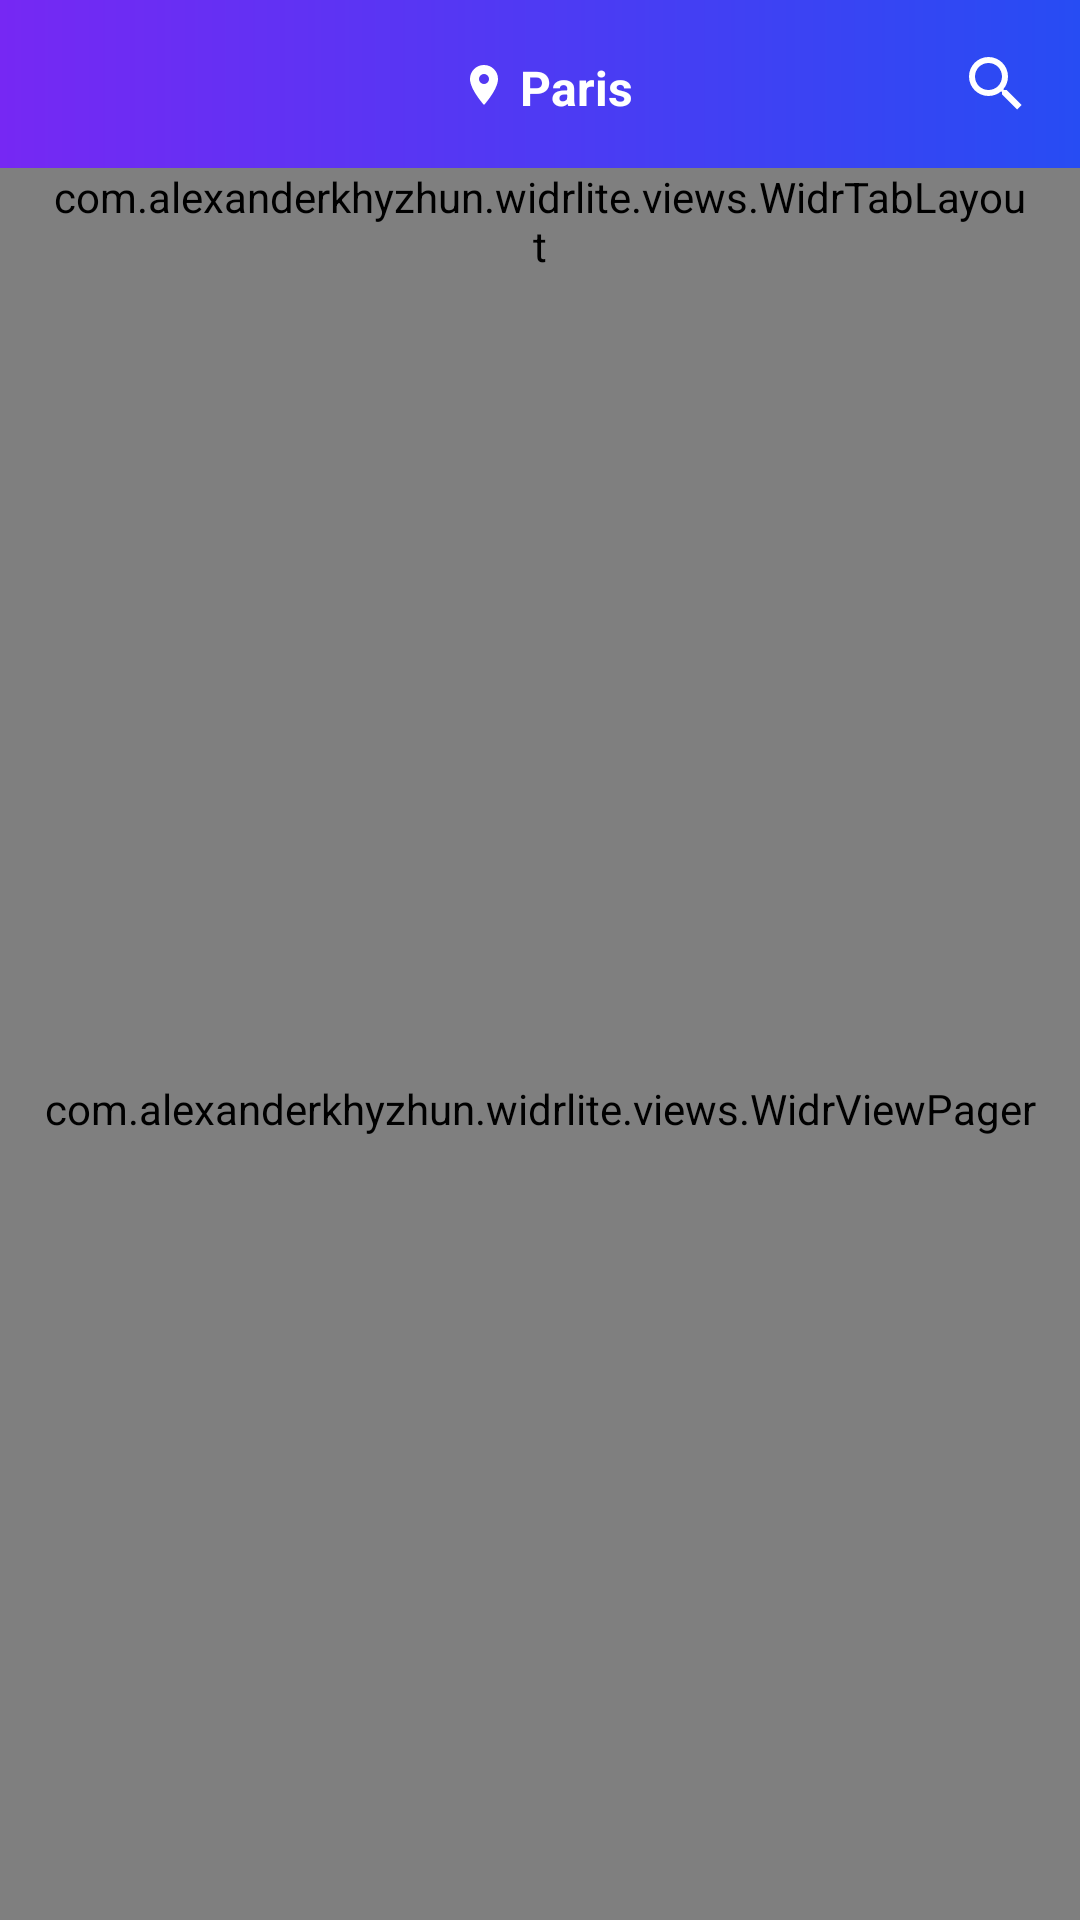

Point at icon controls on the screen. Image size 1080 x 1920, points as (x,y).
location: (484,85)
search: (995,83)
